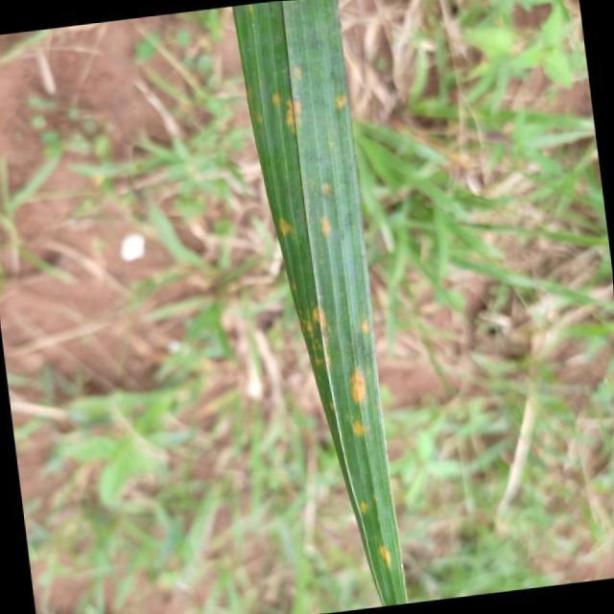Kalium: (224, 0, 412, 614)
